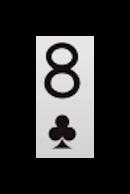8C: (40, 38, 87, 153)
